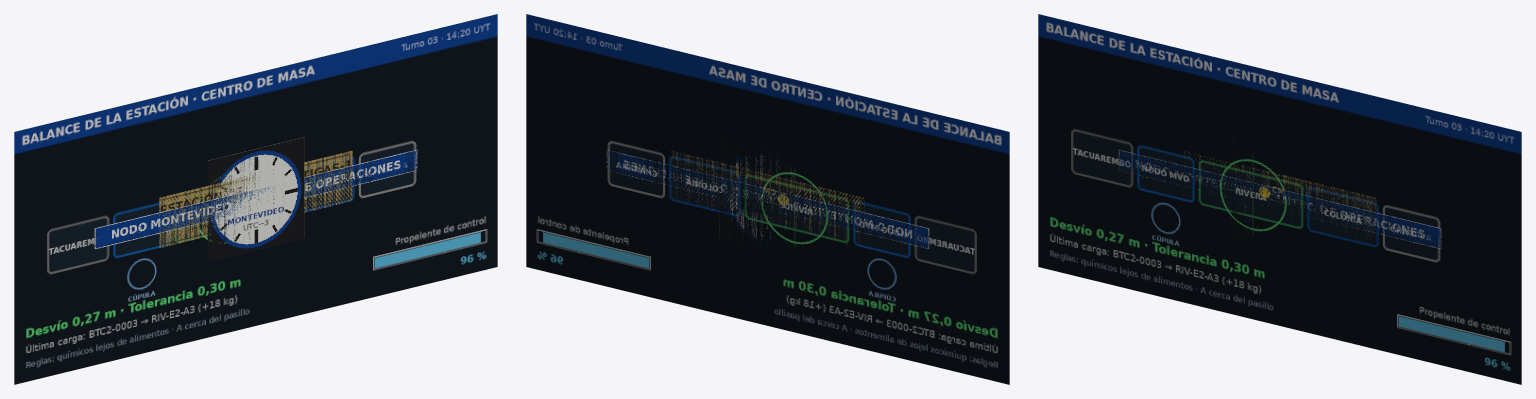
File: SM_Senaletica_Nodo.fbx
3 renders of one model, left to right at view 1: azimuth 30°, elevation 25°; view 2: azimuth 150°, elevation 25°; view 3: azimuth 330°, elevation 25°, orthographic.
Visible parts, largest first — view 1: SM_Pantalla_Balance, SM_Esfera_Reloj, SM_CartelN_0, SM_Placa_Estacion; view 2: SM_Pantalla_Balance, SM_CartelN_0, SM_Placa_Estacion, SM_Esfera_Reloj, SM_Pantalla_Tablet; view 3: SM_Pantalla_Balance, SM_CartelN_0, SM_Placa_Estacion, SM_Esfera_Reloj.
Part boxes in pixels (x1,y1,x2,y2): SM_Pantalla_Balance: (14, 14, 497, 384); SM_Esfera_Reloj: (207, 137, 304, 261); SM_CartelN_0: (94, 149, 417, 248); SM_Placa_Estacion: (159, 150, 352, 247); SM_Pantalla_Balance: (526, 14, 1009, 384); SM_CartelN_0: (606, 149, 929, 248); SM_Placa_Estacion: (671, 151, 864, 245); SM_Esfera_Reloj: (719, 137, 815, 249); SM_Pantalla_Tablet: (737, 176, 796, 221); SM_Pantalla_Balance: (1038, 14, 1521, 384); SM_CartelN_0: (1118, 149, 1441, 248); SM_Placa_Estacion: (1184, 151, 1376, 232); SM_Esfera_Reloj: (1231, 137, 1260, 244).
Size of the model in its own units: 1.2 by 0.6 by 0.
